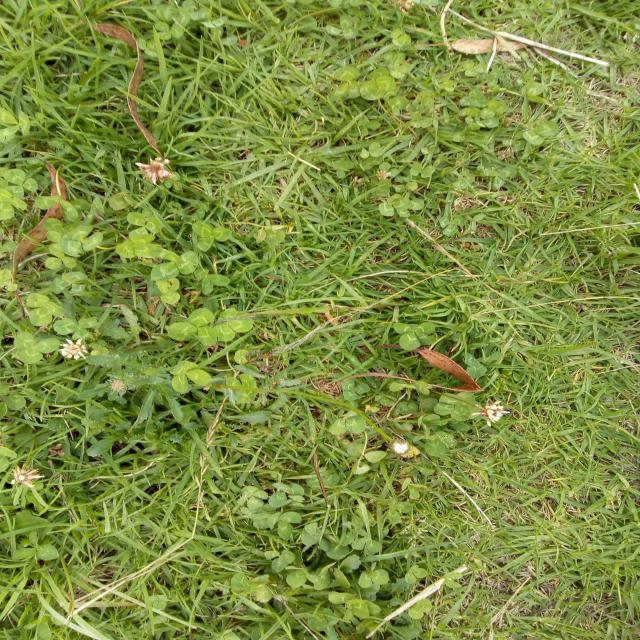Four Leaf Clover: (393, 322, 437, 351)
